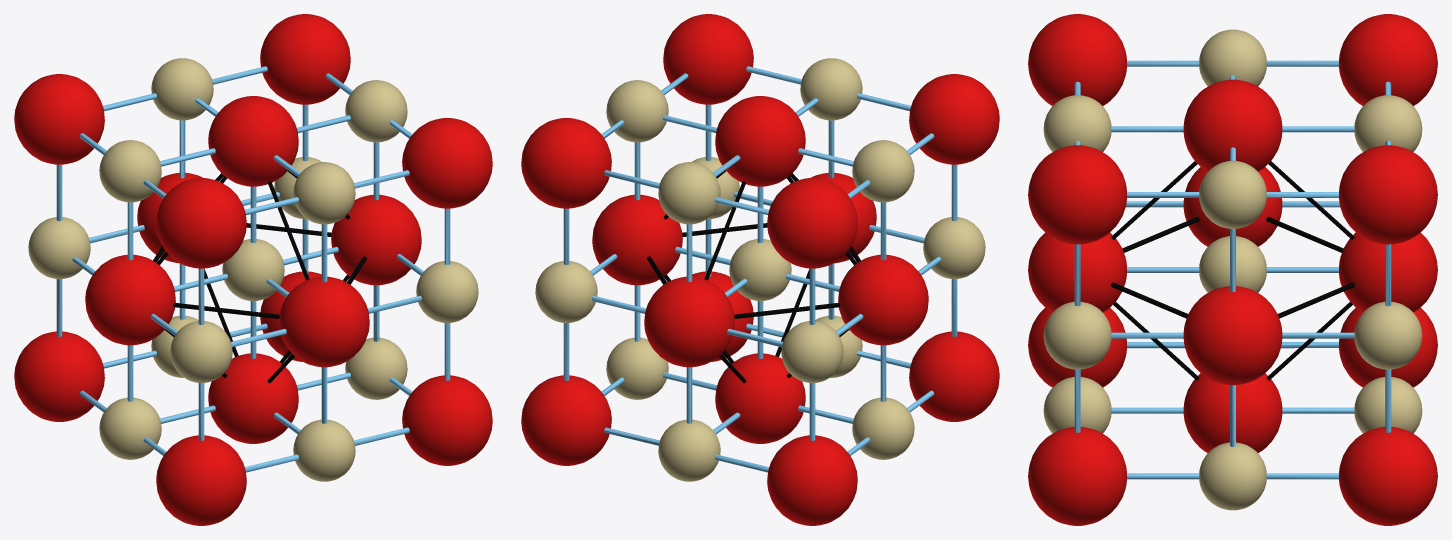
The model's file is lizi2.FBX.
The picture shows the model from 3 angles, left to right: view 1: azimuth 30°, elevation 25°; view 2: azimuth 150°, elevation 25°; view 3: azimuth 270°, elevation 25°; orthographic projection. The views are drawn at different scales.
Visible parts, largest first — view 1: 图形008, Sphere322, Sphere326, Sphere323, Sphere324, Sphere333, Sphere320, Sphere321, Sphere325, Sphere327, Sphere330, Sphere329 (+18 smaller); view 2: 图形008, Sphere320, Sphere327, Sphere321, Sphere328, Sphere332, Sphere322, Sphere323, Sphere325, Sphere326, Sphere330, Sphere329 (+18 smaller); view 3: 图形008, Sphere323, Sphere321, Sphere328, Sphere324, Sphere331, Sphere322, Sphere320, Sphere325, Sphere333, Sphere332, Sphere329 (+15 smaller).
Boxes of the visible parts, box(x1,y1,x2,y2) form: 图形008: box(56, 66, 450, 472); Sphere322: box(156, 178, 246, 268); Sphere326: box(156, 435, 246, 525); Sphere323: box(402, 118, 492, 208); Sphere324: box(402, 375, 492, 465); Sphere333: box(279, 276, 369, 367); Sphere320: box(14, 74, 104, 164); Sphere321: box(260, 14, 350, 104); Sphere325: box(208, 96, 298, 186); Sphere327: box(14, 331, 104, 421); Sphere330: box(85, 254, 175, 345); Sphere329: box(208, 353, 298, 443); 图形008: box(563, 66, 957, 472); Sphere320: box(767, 178, 857, 268); Sphere327: box(767, 435, 857, 525); Sphere321: box(521, 118, 611, 208); Sphere328: box(521, 375, 611, 465); Sphere332: box(644, 276, 734, 367); Sphere322: box(909, 74, 999, 164); Sphere323: box(663, 14, 753, 104); Sphere325: box(715, 96, 805, 186); Sphere326: box(909, 331, 999, 421); Sphere330: box(838, 254, 928, 345); Sphere329: box(715, 353, 805, 443); 图形008: box(1074, 60, 1391, 479); Sphere323: box(1028, 145, 1126, 244); Sphere321: box(1339, 145, 1437, 244); Sphere328: box(1339, 427, 1437, 525); Sphere324: box(1028, 427, 1126, 525); Sphere331: box(1183, 286, 1282, 385); Sphere322: box(1028, 14, 1126, 105); Sphere320: box(1339, 14, 1437, 105); Sphere325: box(1183, 79, 1282, 171); Sphere333: box(1028, 232, 1126, 312); Sphere332: box(1339, 232, 1437, 312); Sphere329: box(1183, 373, 1282, 452).
Bounding box in the file's own units: 66 × 66 × 66.
Materials: 1 (1 with a texture image).
